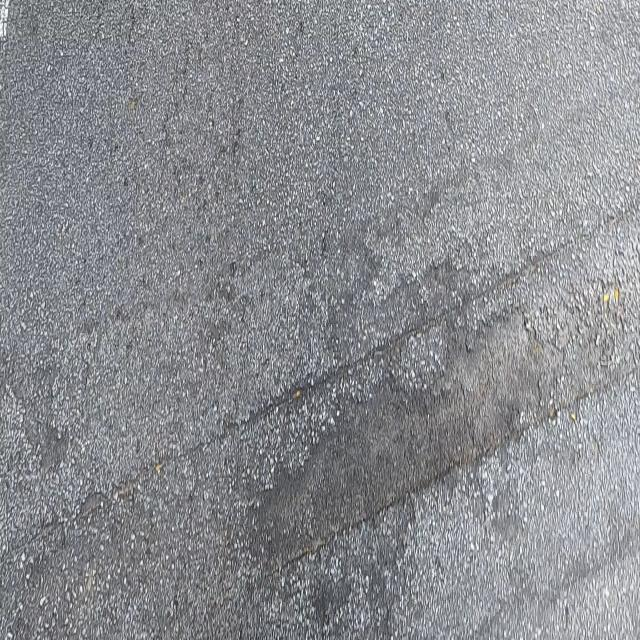Retak-Melintang: (2, 192, 640, 564), (284, 358, 638, 569)
